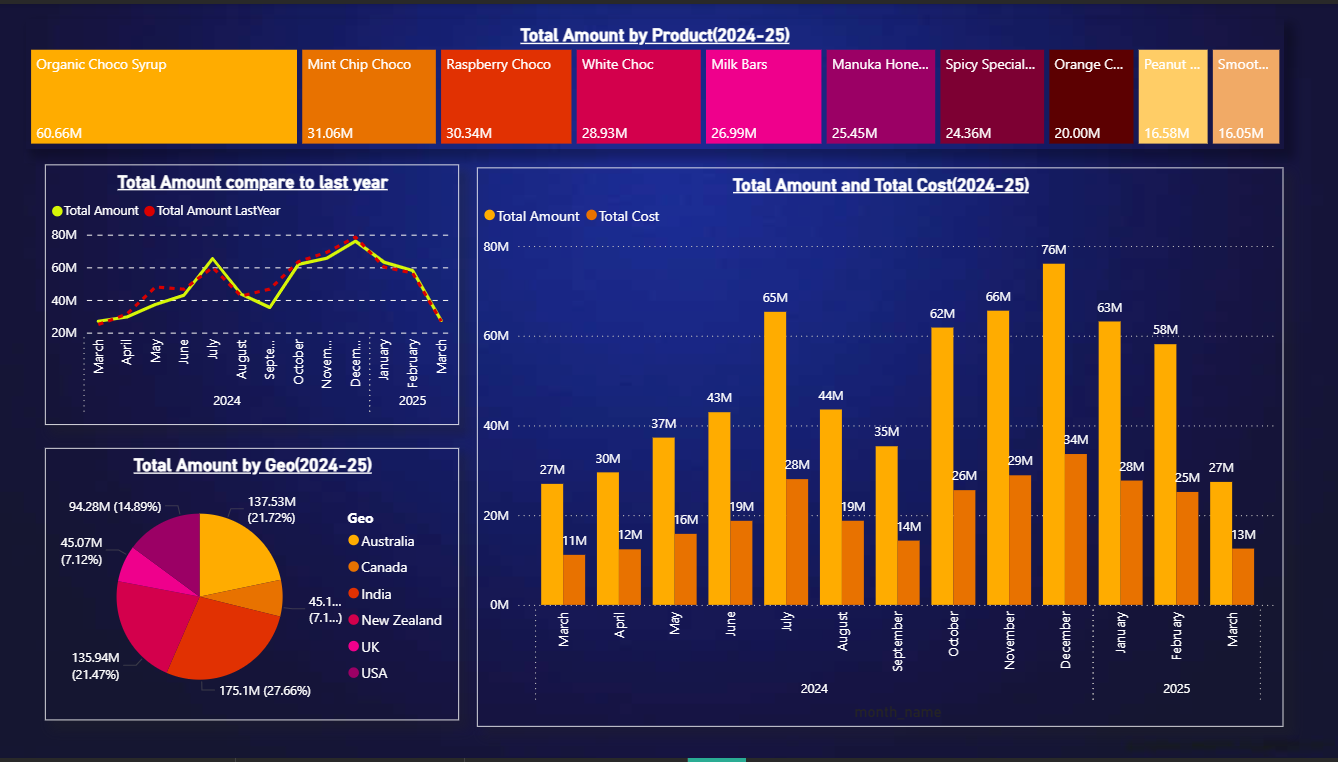

What the dashboard file says about the page in this screenshot:
{"tool":"powerbi","page":{"name":"Total_Amount(2024-25)","canvas":[1280,720],"ordinal":0},"visuals":[{"type":"treemap","title":"Total Amount by Product(2024-25)","fields":{"Values":["Sum(shipments (2).Amount)"],"Group":["products.Product","calendar.year","calendar.month_name"]},"box":[24,14,1202,124],"z":0},{"type":"lineChart","title":"Total Amount compare to last year","fields":{"Y":["shipments (2).Total Amount","shipments (2).Total Amount LastYear"],"Category":["calendar.year","calendar.month_name"]},"box":[42.3,152.9,395.3,248.9],"z":1000},{"type":"pieChart","title":"Total Amount by Geo(2024-25)","fields":{"Category":["locations.Geo","calendar.year","calendar.month_name"],"Y":["shipments (2).Total Amount"]},"box":[42.3,424.5,395.3,260.2],"z":2000},{"type":"clusteredColumnChart","title":"Total Amount and Total Cost(2024-25)","fields":{"Category":["calendar.year","calendar.month_name"],"Y":["shipments (2).Total Amount","shipments (2).Total Cost"]},"box":[456,156,770,534],"z":3000}]}

Visuals, with their boxes in screenshot pixels (x1, y1, x2, y2), scaled from the page's 1280x720 canvas onto the 1338x762 screenshot:
"Total Amount by Product(2024-25)" treemap: box=[25, 15, 1282, 146]
"Total Amount compare to last year" lineChart: box=[44, 162, 457, 425]
"Total Amount by Geo(2024-25)" pieChart: box=[44, 449, 457, 725]
"Total Amount and Total Cost(2024-25)" clusteredColumnChart: box=[477, 165, 1282, 730]
